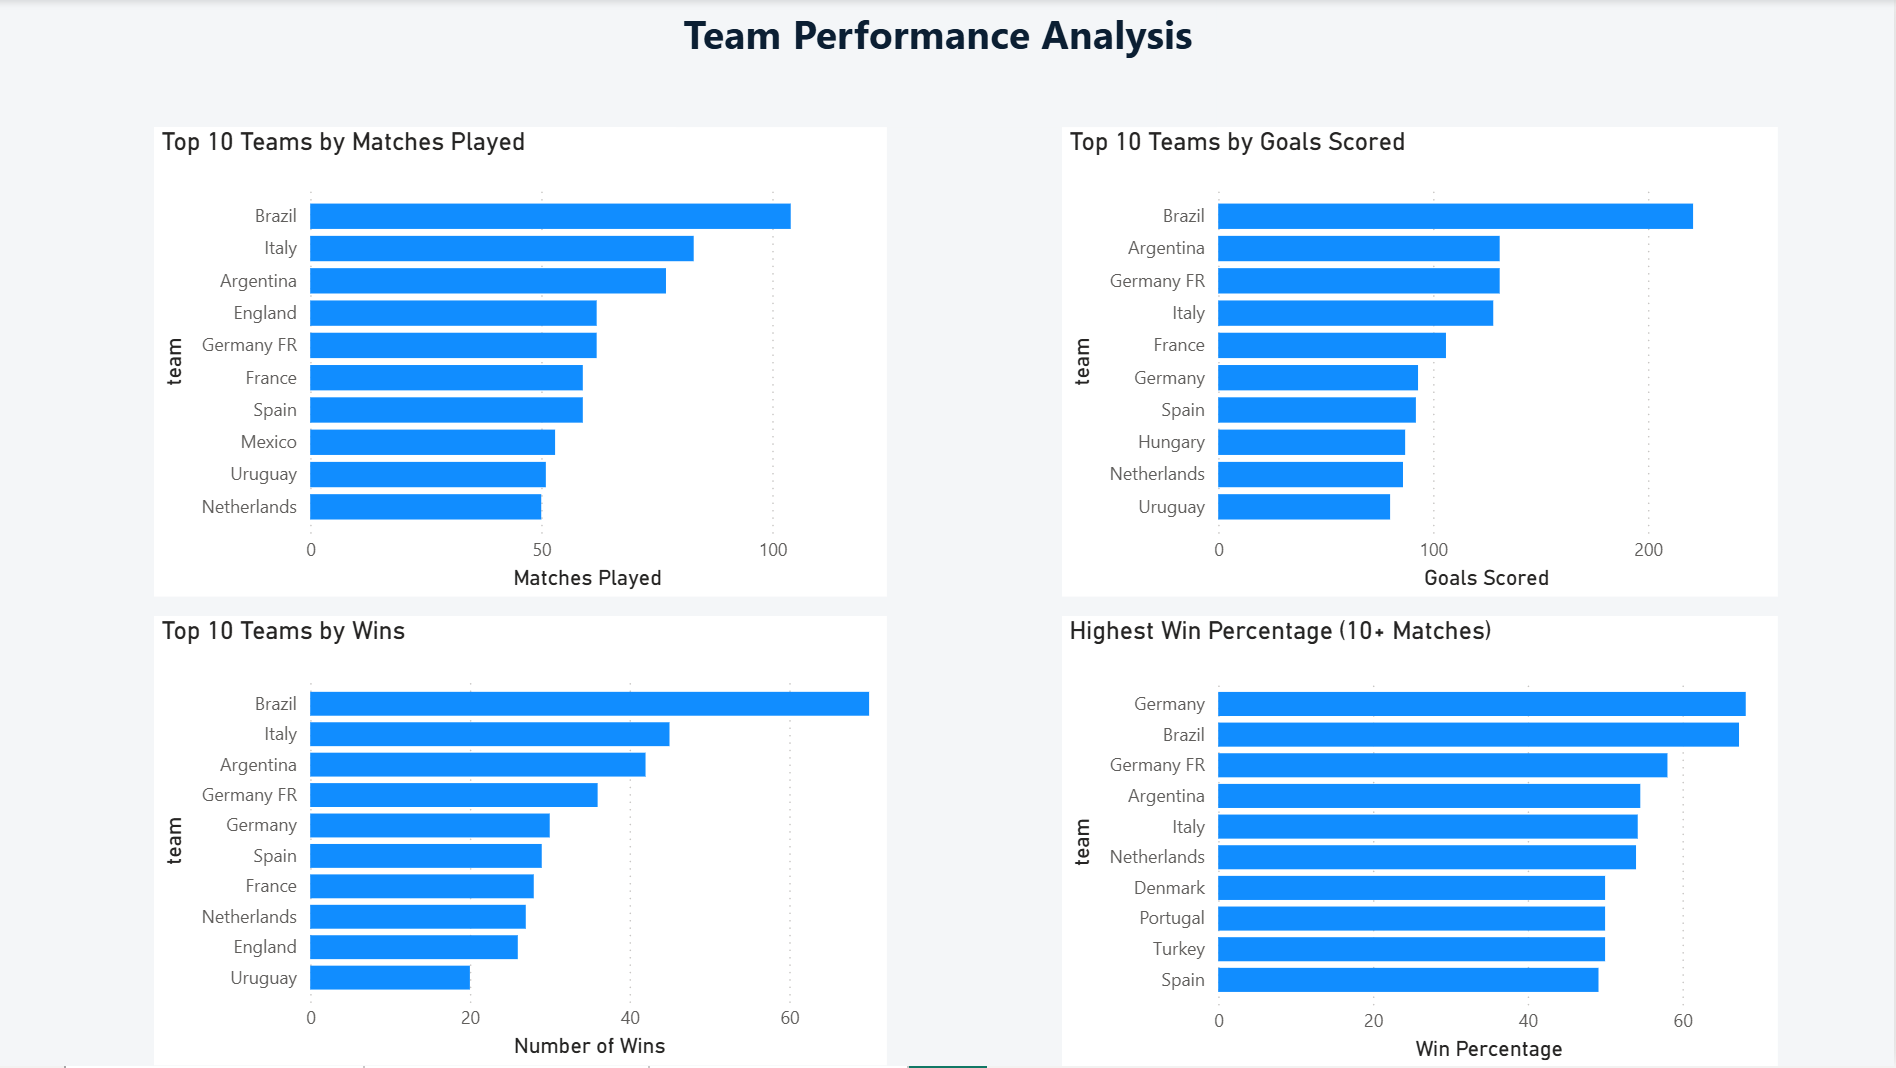

Layout of this report page (visuals, bound fields, positions):
{"tool":"powerbi","page":{"name":"Team Performance","canvas":[1280,720],"ordinal":1},"visuals":[{"type":"clusteredBarChart","title":"Top 10 Teams by Matches Played","fields":{"Category":["vw_TeamPerformance.team"],"Y":["Sum(vw_TeamPerformance.matches_played)"]},"box":[105,86.7,495,316.7],"z":0},{"type":"clusteredBarChart","title":"Top 10 Teams by Wins","fields":{"Category":["vw_TeamPerformance.team"],"Y":["Sum(vw_TeamPerformance.wins)"]},"box":[105,416.7,495,303.3],"z":1000},{"type":"clusteredBarChart","title":"Top 10 Teams by Goals Scored","fields":{"Category":["vw_TeamPerformance.team"],"Y":["Sum(vw_TeamPerformance.goals_for)"]},"box":[718.3,86.7,483.3,316.7],"z":2000},{"type":"clusteredBarChart","title":"Highest Win Percentage (10+ Matches)","fields":{"Category":["vw_TeamPerformance.team"],"Y":["Sum(vw_TeamPerformance.win_percentage)"]},"box":[718.3,416.7,483.3,305],"z":3000},{"type":"textbox","box":[458.3,0,365,86.7],"z":4000}]}

Visuals, with their boxes in screenshot pixels (x1, y1, x2, y2), scaled from the page's 1280x720 canvas onto the 1896x1068 screenshot:
"Top 10 Teams by Matches Played" clusteredBarChart: bbox(156, 129, 889, 598)
"Top 10 Teams by Wins" clusteredBarChart: bbox(156, 618, 889, 1067)
"Top 10 Teams by Goals Scored" clusteredBarChart: bbox(1064, 129, 1780, 598)
"Highest Win Percentage (10+ Matches)" clusteredBarChart: bbox(1064, 618, 1780, 1067)
textbox: bbox(679, 0, 1220, 129)
